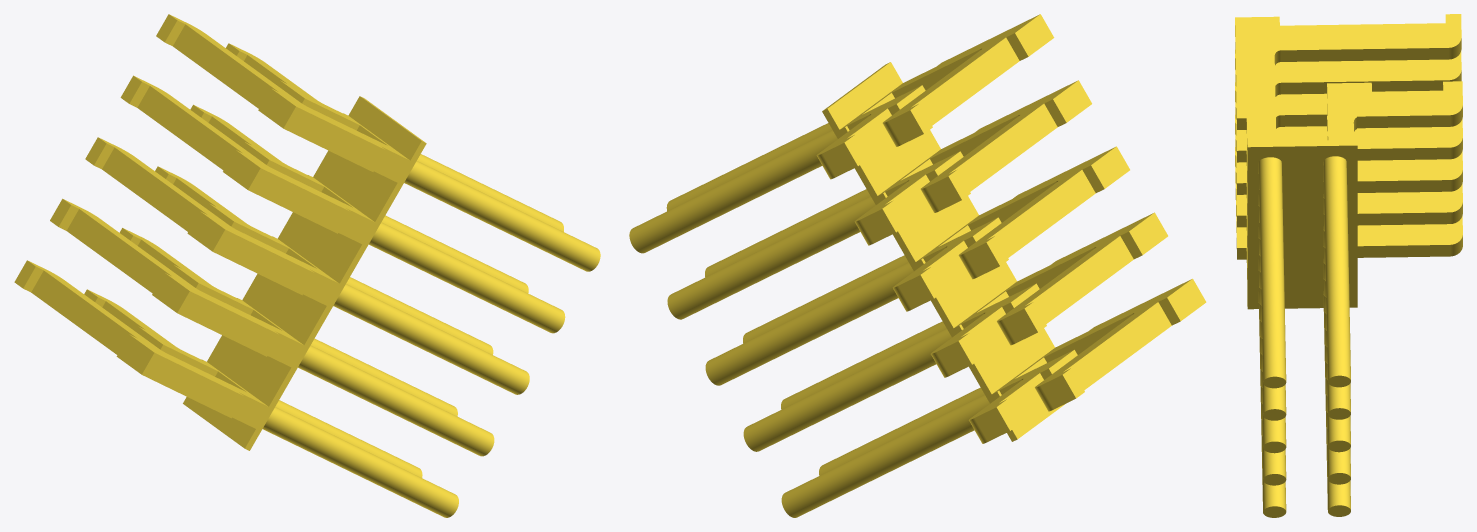
The model's file is data_pins__data_pins.gltf.
3 renders of one model, left to right at view 1: azimuth 30°, elevation 25°; view 2: azimuth 150°, elevation 25°; view 3: azimuth 270°, elevation 25°, orthographic. The views are drawn at different scales.
Visible parts, largest first — view 1: mesh85411, mesh85405, mesh85393, mesh85397, mesh85401, mesh85409, mesh85412, mesh85414, mesh85415, mesh85413, mesh85420, mesh85464 (+25 smaller); view 2: mesh85399, mesh85387, mesh85395, mesh85403, mesh85407, mesh85464, mesh85442, mesh85508, mesh85486, mesh85420, mesh85412, mesh85415 (+39 smaller); view 3: mesh85529, mesh85388, mesh85535, mesh85395, mesh85393, mesh85541, mesh85547, mesh85553, mesh85513, mesh85491, mesh85459, mesh85503 (+13 smaller).
Part boxes in pixels (<box>): mesh85411: <box>232,141,426,450</box>; mesh85405: <box>298,345,494,456</box>; mesh85393: <box>404,161,600,271</box>; mesh85397: <box>369,222,565,333</box>; mesh85401: <box>333,284,529,394</box>; mesh85409: <box>262,407,458,517</box>; mesh85412: <box>207,335,291,406</box>; mesh85414: <box>277,212,361,283</box>; mesh85415: <box>313,150,397,221</box>; mesh85413: <box>242,273,326,344</box>; mesh85420: <box>31,270,136,354</box>; mesh85464: <box>102,147,206,231</box>; mesh85399: <box>667,196,875,319</box>; mesh85387: <box>781,394,989,517</box>; mesh85395: <box>629,130,837,253</box>; mesh85403: <box>705,262,913,385</box>; mesh85407: <box>743,328,951,451</box>; mesh85464: <box>987,170,1095,257</box>; mesh85442: <box>1025,236,1133,323</box>; mesh85508: <box>911,37,1019,125</box>; mesh85486: <box>949,103,1057,191</box>; mesh85420: <box>1064,302,1171,390</box>; mesh85412: <box>974,328,1054,393</box>; mesh85415: <box>860,130,940,195</box>; mesh85529: <box>1235,14,1462,141</box>; mesh85388: <box>1247,145,1357,309</box>; mesh85535: <box>1235,50,1462,170</box>; mesh85395: <box>1323,156,1350,379</box>; mesh85393: <box>1258,157,1286,381</box>; mesh85541: <box>1235,82,1462,202</box>; mesh85547: <box>1235,115,1462,235</box>; mesh85553: <box>1235,147,1462,267</box>; mesh85513: <box>1281,48,1448,61</box>; mesh85491: <box>1281,80,1448,94</box>; mesh85459: <box>1357,212,1450,225</box>; mesh85503: <box>1357,147,1450,160</box>.
Bounding box in the file's own units: 0.0099 × 0.00924 × 0.00447.
